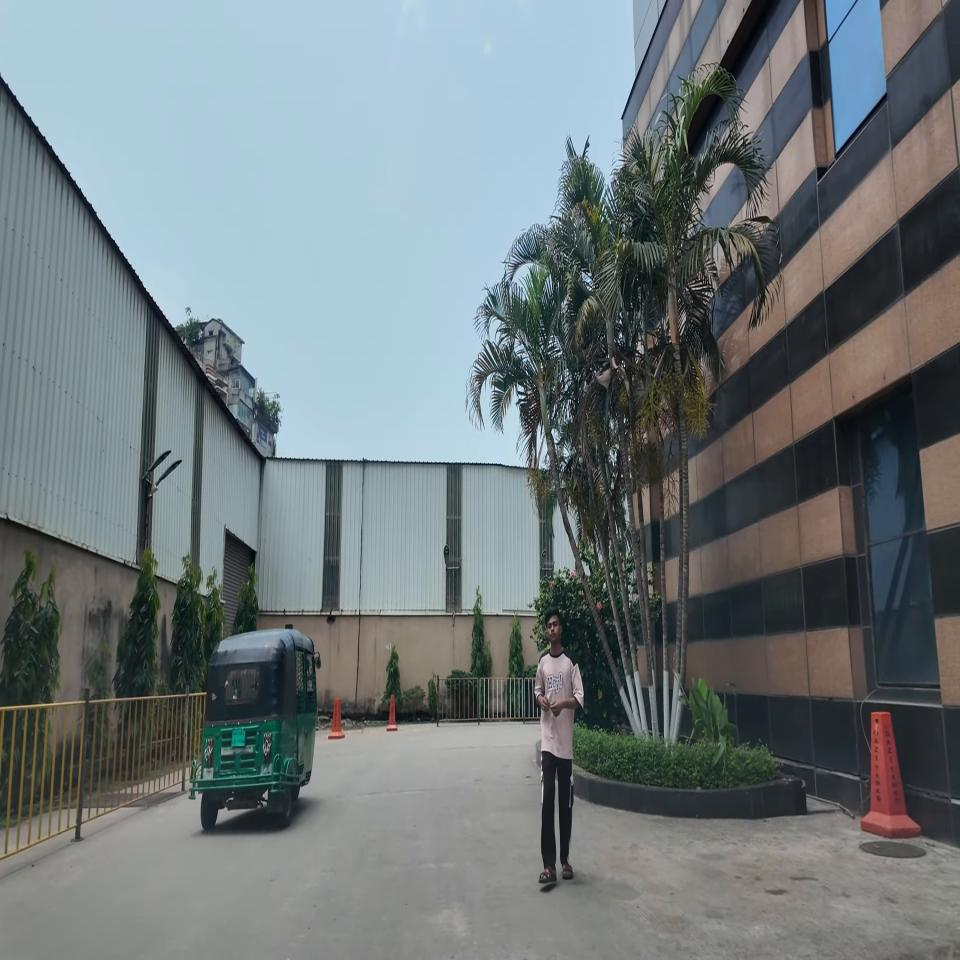person: (534, 609, 584, 886)
